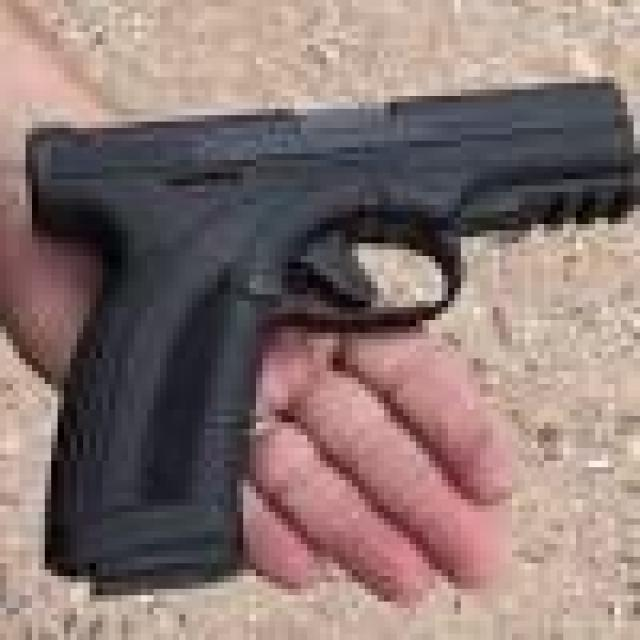Gun: (5, 75, 640, 627)
